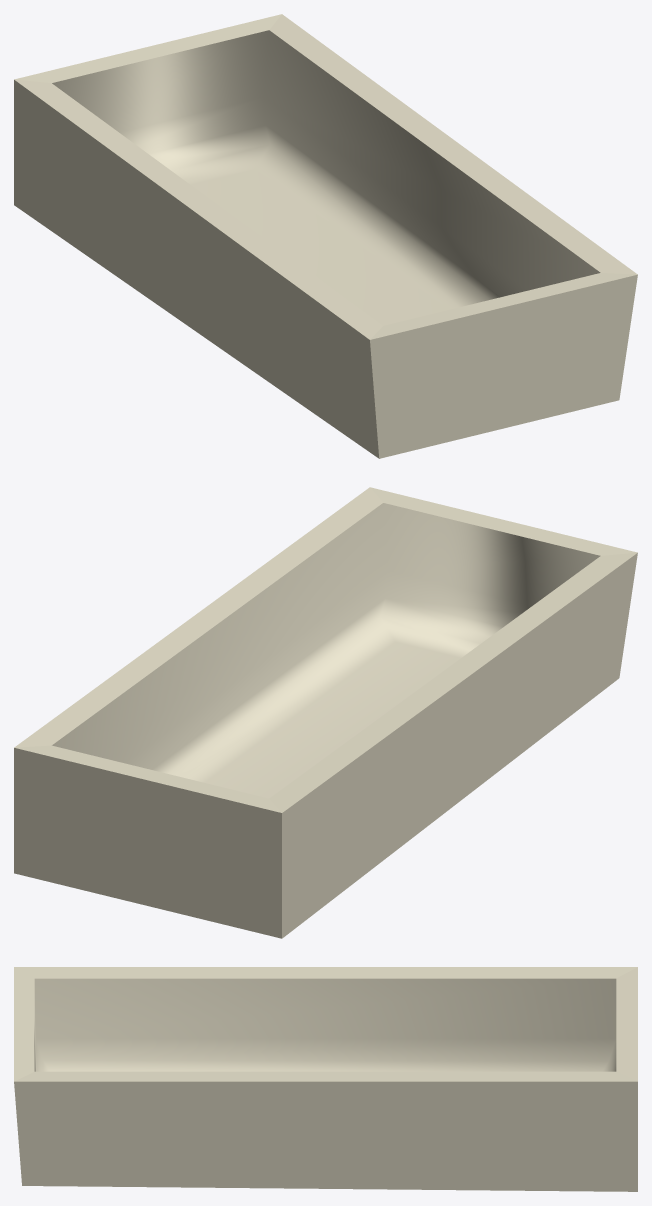
Rendered from tub.fbx.
The picture shows the model from 3 angles, top to bottom: view 1: azimuth 30°, elevation 25°; view 2: azimuth 150°, elevation 25°; view 3: azimuth 270°, elevation 25°; orthographic projection. The views are drawn at different scales.
Parts seen in each view (by area): view 1: tub; view 2: tub; view 3: tub.
Part boxes in pixels (x1,y1,x2,y2): tub: (14,14,637,458); tub: (14,487,637,938); tub: (14,967,637,1191).
Bounding box in the file's own units: 2.23 × 1 × 5.13.
